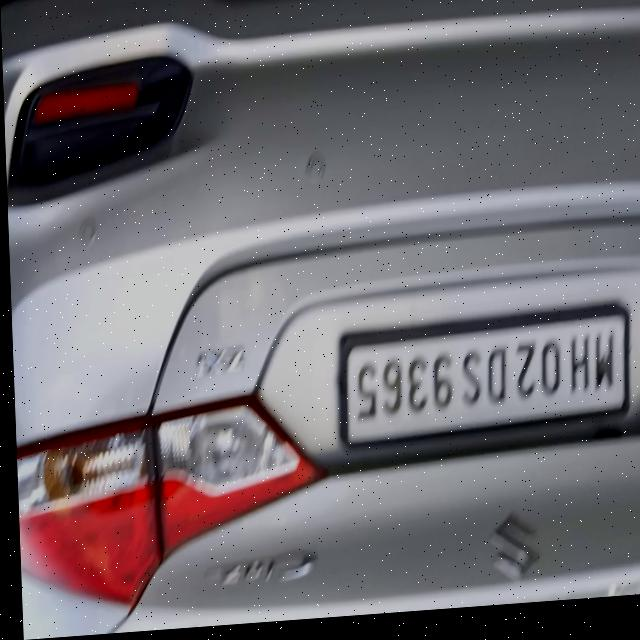plate: (334, 317, 630, 456)
